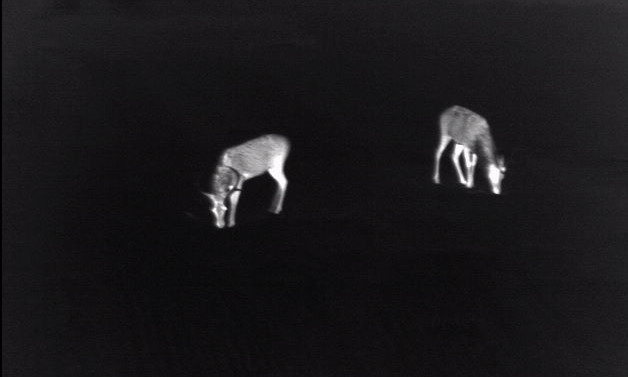deer: (193, 133, 290, 229), (431, 104, 513, 197)
